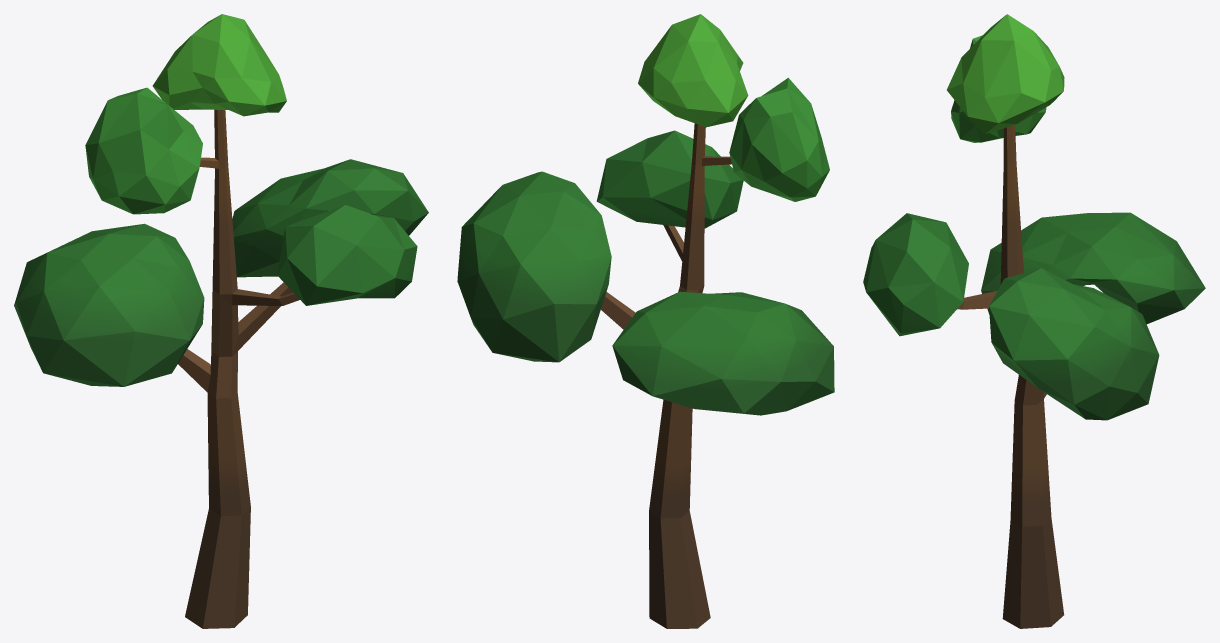
The model's file is um_tree004.FBX.
3 views of the same model, side by side, from view 1: azimuth 30°, elevation 25°; view 2: azimuth 150°, elevation 25°; view 3: azimuth 270°, elevation 25° (orthographic). The views are drawn at different scales.
Parts seen in each view (by area): view 1: um_tree004; view 2: um_tree004; view 3: um_tree004.
Boxes of the visible parts, x1,y1,x2,y2 form: um_tree004: [14, 14, 428, 628]; um_tree004: [457, 14, 834, 628]; um_tree004: [863, 14, 1205, 628].
Bounding box in the file's own units: 3.15 × 4.95 × 2.56.
